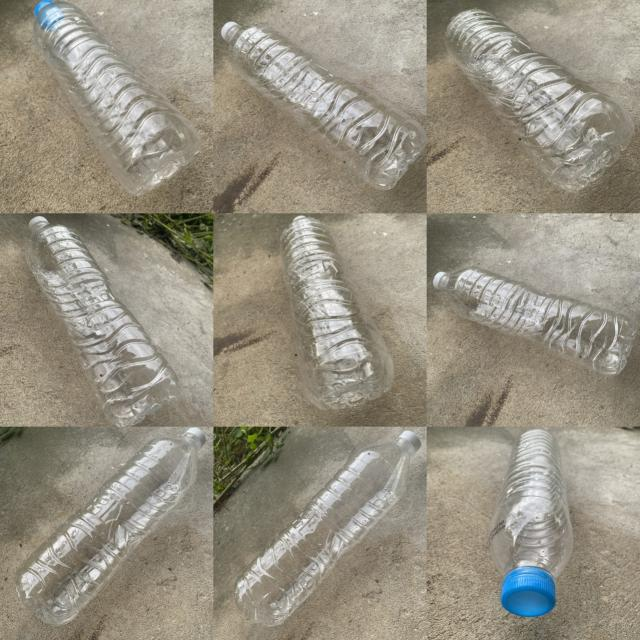plastik: (15, 428, 205, 625), (235, 431, 421, 626), (445, 9, 634, 191), (222, 22, 426, 190), (34, 0, 201, 195), (26, 216, 180, 426), (434, 266, 638, 375), (280, 216, 394, 410), (489, 429, 574, 618)
